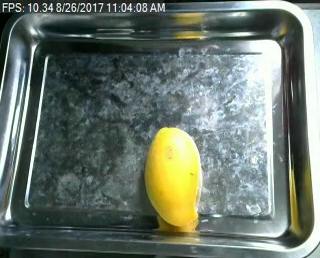Mango: (140, 126, 207, 234)
